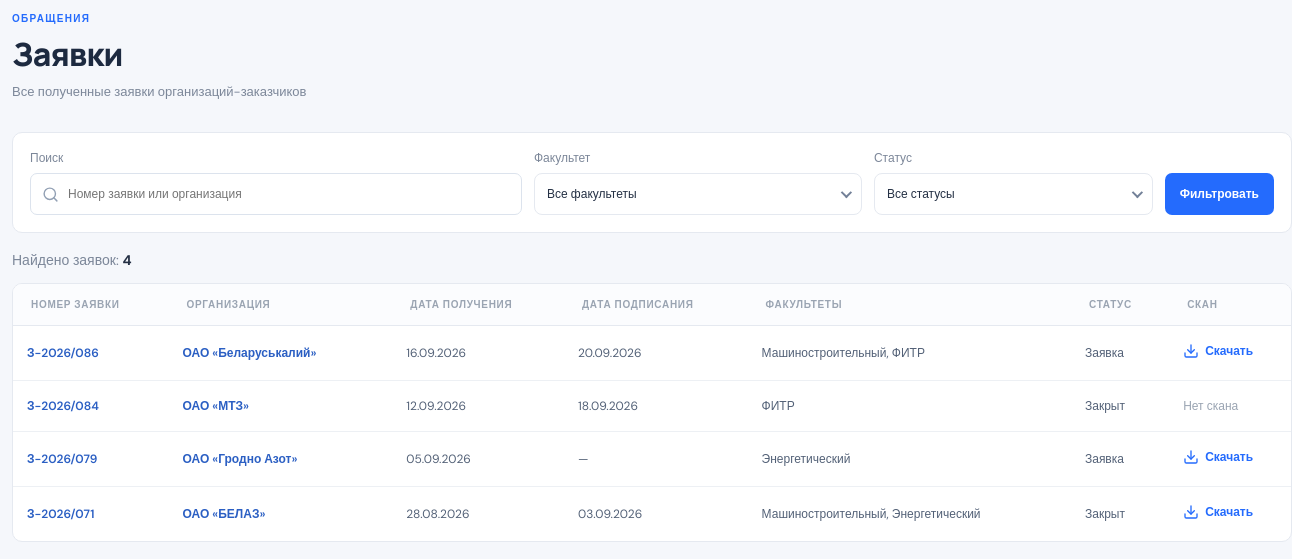
Scenario: ApplicationsPage › filters by faculty and status together
Click the button "Все факультеты" at (592, 194), box [534,173,862,215]
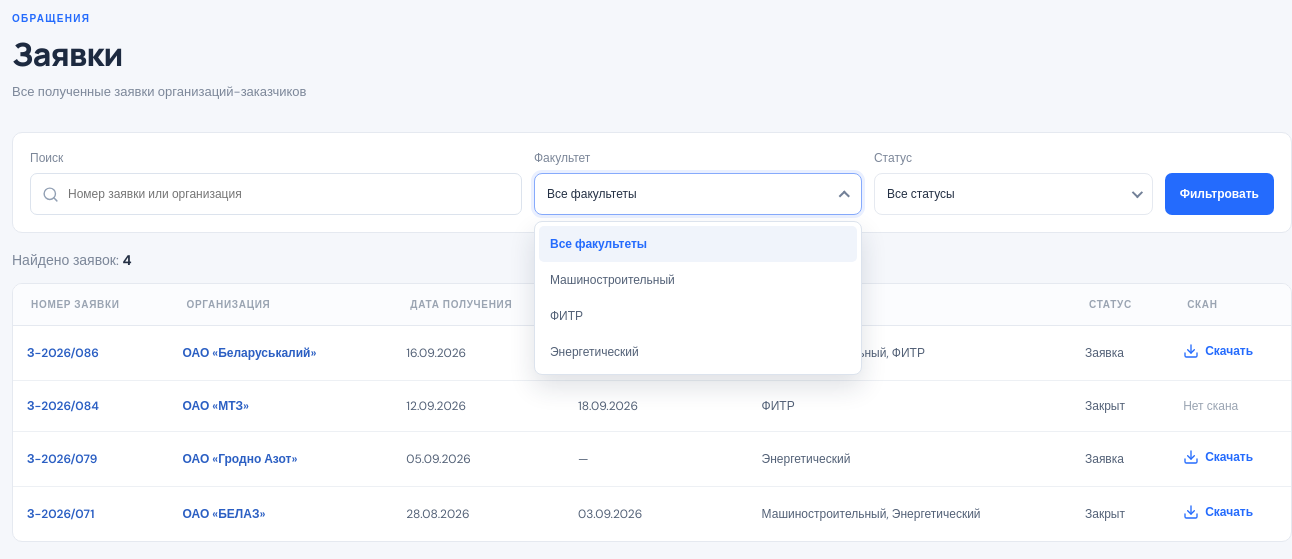
Click the option "Машиностроительный" at (612, 280), box [539,262,857,298]
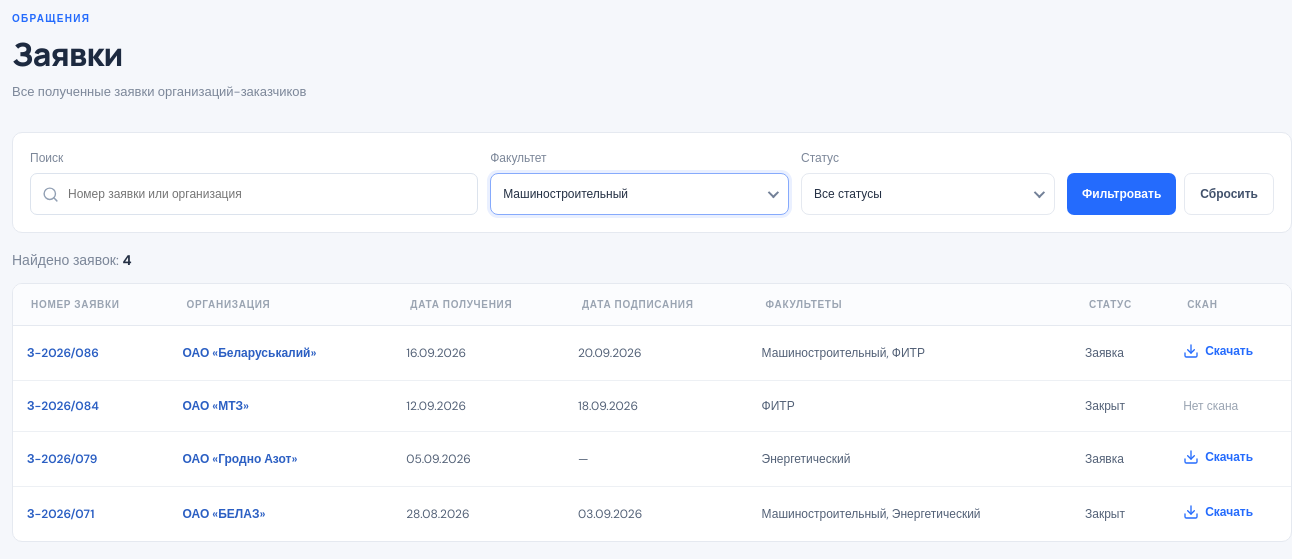
Click the button "Все статусы" at (928, 194), box [801,173,1055,215]
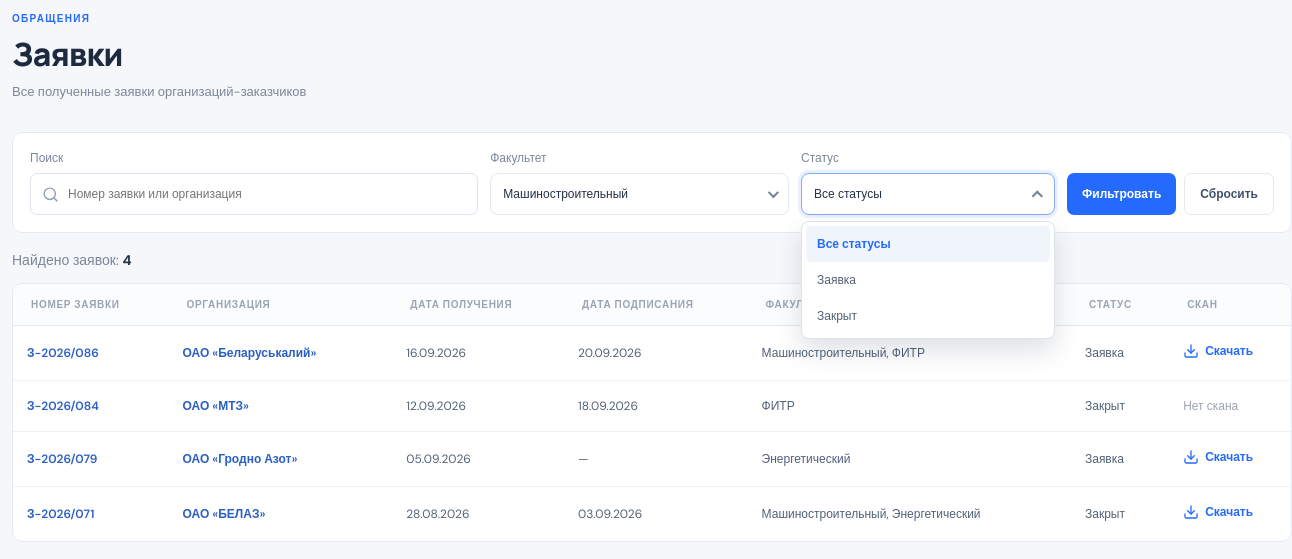
Click the option "Закрыт" at (928, 316), box [806,298,1050,334]
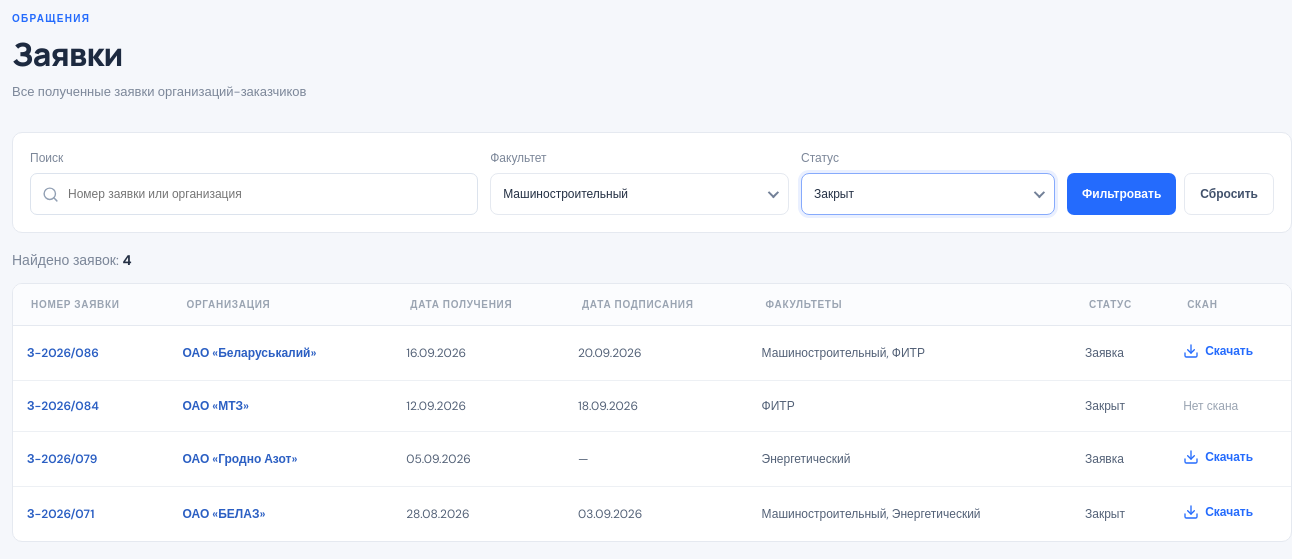
Click the button "Фильтровать" at (1122, 194), box [1067,173,1176,215]
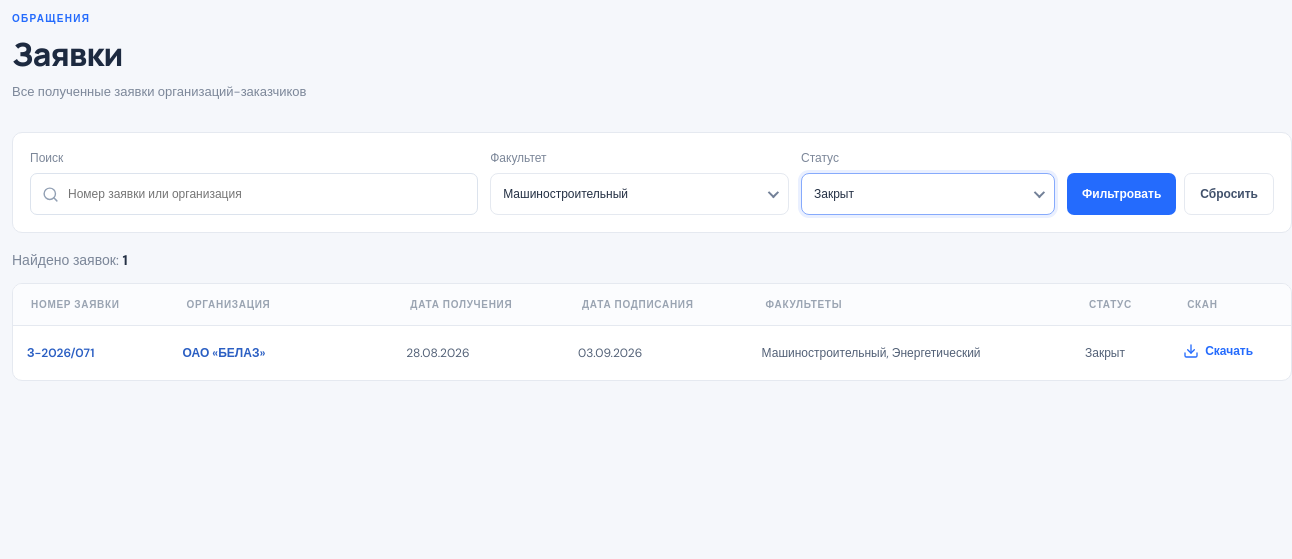
Expected: the link "З-2026/071" is shown, [27,345,94,361]
Expected: the link "З-2026/084" is gone
